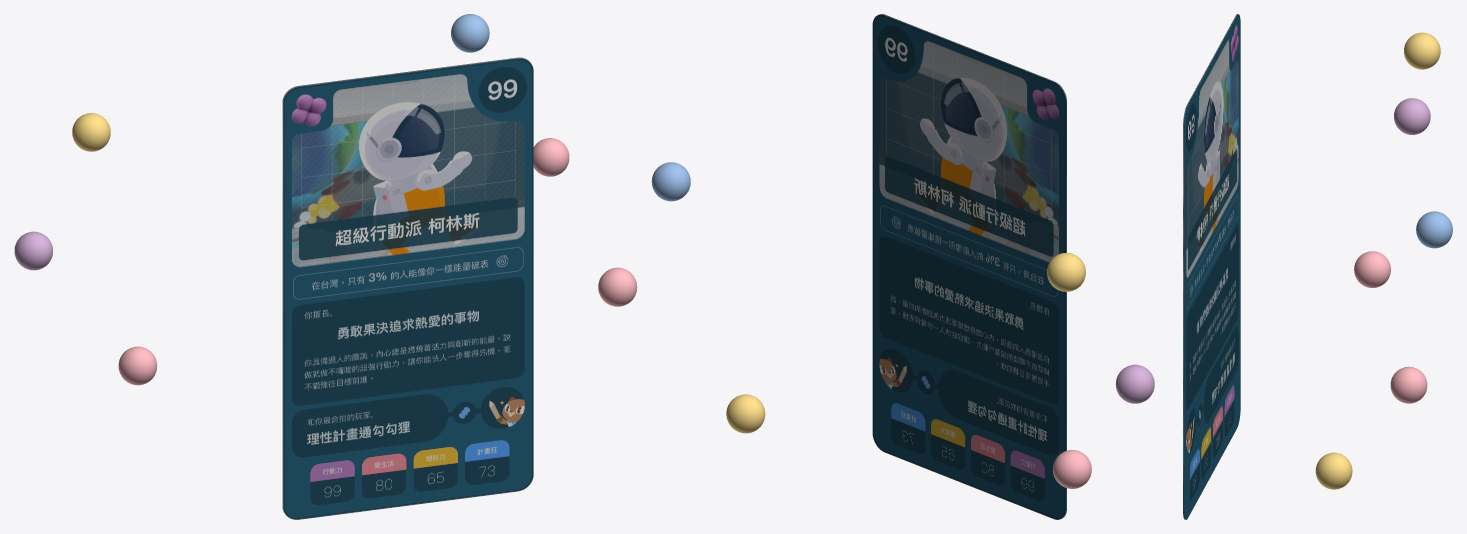
File: 0817_Balls_Material.glb
The picture shows the model from 3 angles, left to right: view 1: azimuth 30°, elevation 25°; view 2: azimuth 150°, elevation 25°; view 3: azimuth 270°, elevation 25°; orthographic projection. The views are drawn at different scales.
Parts seen in each view (by area): view 1: 形狀_1_4, Sphere.1, Sphere.3, Sphere, Sphere.5, Sphere.2; view 2: 形狀_1_4, Sphere.4, Sphere, Sphere.2, Sphere.3, Sphere.5, Sphere.1; view 3: 形狀_1_4, Sphere.4, Sphere.2, Sphere.5, Sphere, Sphere.3, Sphere.1.
Part boxes in pixels (box(x1,y1,x2,y2)): 形狀_1_4: box(282, 57, 533, 519); Sphere.1: box(118, 346, 157, 385); Sphere.3: box(451, 14, 489, 52); Sphere: box(14, 231, 52, 270); Sphere.5: box(72, 113, 110, 151); Sphere.2: box(533, 138, 569, 176); 形狀_1_4: box(872, 14, 1066, 519); Sphere.4: box(726, 394, 765, 433); Sphere: box(1115, 364, 1154, 403); Sphere.2: box(598, 267, 637, 306); Sphere.3: box(651, 162, 690, 201); Sphere.5: box(1047, 252, 1085, 291); Sphere.1: box(1053, 450, 1091, 488); 形狀_1_4: box(1183, 14, 1240, 519); Sphere.4: box(1315, 452, 1352, 489); Sphere.2: box(1390, 366, 1427, 403); Sphere.5: box(1404, 32, 1440, 69); Sphere: box(1394, 98, 1430, 134); Sphere.3: box(1416, 211, 1452, 248); Sphere.1: box(1354, 251, 1390, 287).
Size of the model in its own units: 2.54 by 1.92 by 1.14.
5 materials, 1 textured.
